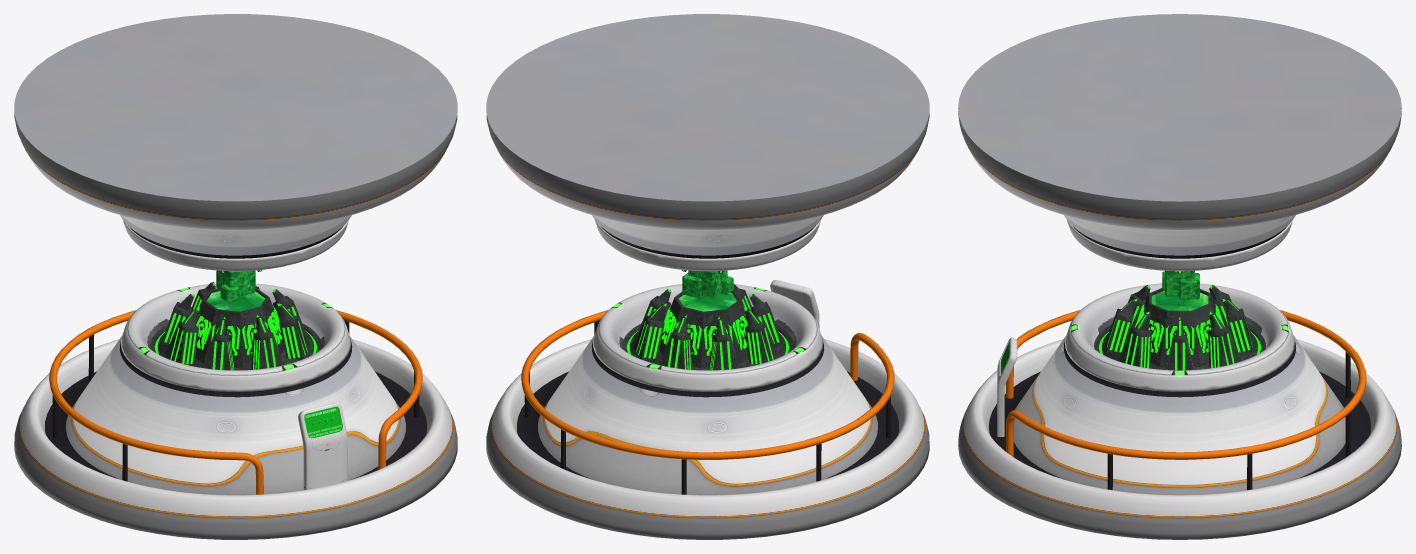
File: IonFusionReactor.fbx
3 renders of one model, left to right at view 1: azimuth 30°, elevation 25°; view 2: azimuth 150°, elevation 25°; view 3: azimuth 270°, elevation 25°, orthographic.
Visible parts, largest first — view 1: Casing, Reactor, Railings, Display, IonCube; view 2: Casing, Reactor, Railings, IonCube, Display; view 3: Casing, Reactor, Railings, Display, IonCube.
Part boxes in pixels (x1,y1,x2,y2): Casing: [14, 14, 457, 539]; Reactor: [161, 270, 310, 370]; Railings: [49, 310, 422, 494]; Display: [298, 403, 347, 489]; IonCube: [216, 270, 255, 302]; Casing: [486, 14, 929, 539]; Reactor: [633, 270, 782, 370]; Railings: [521, 310, 894, 494]; IonCube: [682, 270, 733, 298]; Display: [770, 280, 819, 328]; Casing: [958, 14, 1401, 539]; Reactor: [1106, 271, 1253, 370]; Railings: [1006, 310, 1366, 490]; Display: [997, 337, 1017, 436]; IonCube: [1162, 270, 1199, 299].
Size of the model in its own units: 338 by 284 by 338.
